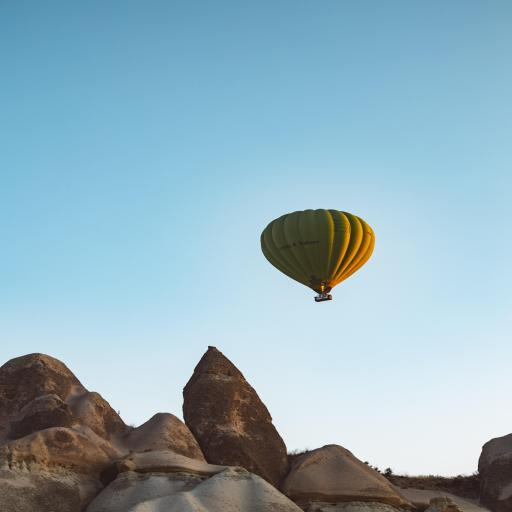hot air ballon: (255, 206, 379, 300)
